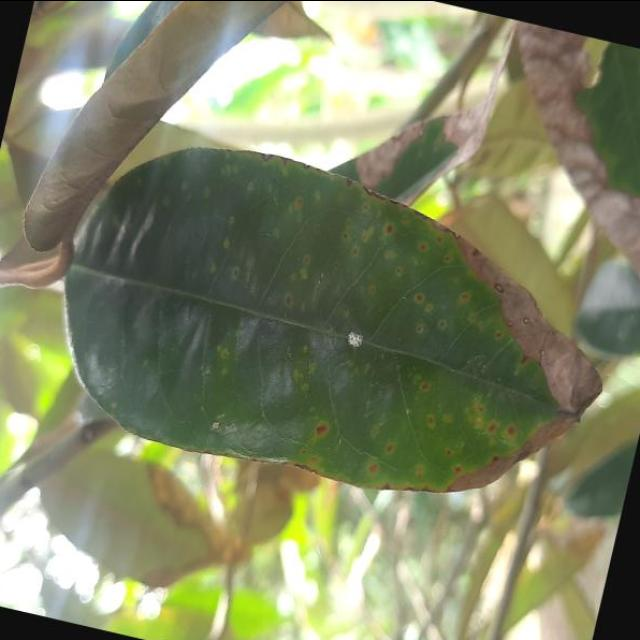Leaf Spot: (8, 109, 640, 547)
